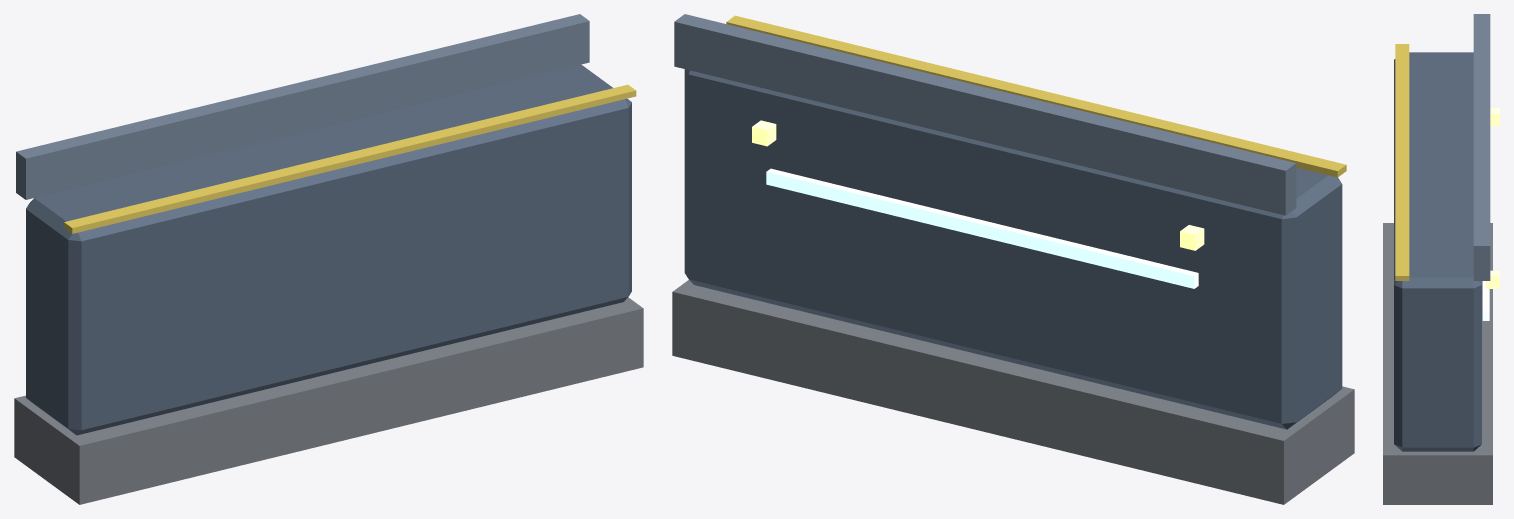
File: wall.glb
3 views of the same model, side by side, from view 1: azimuth 30°, elevation 25°; view 2: azimuth 150°, elevation 25°; view 3: azimuth 270°, elevation 25° (orthographic). The views are drawn at different scales.
Parts seen in each view (by area): view 1: wall, detail; view 2: wall, detail; view 3: wall, detail.
Boxes of the visible parts, <box> form: wall: <box>14,14,643,504</box>; detail: <box>64,84,636,233</box>; wall: <box>672,14,1354,504</box>; detail: <box>726,15,1346,250</box>; wall: <box>1383,14,1492,504</box>; detail: <box>1395,44,1499,288</box>.
Size of the model in its own units: 20 by 10.4 by 4.25.
